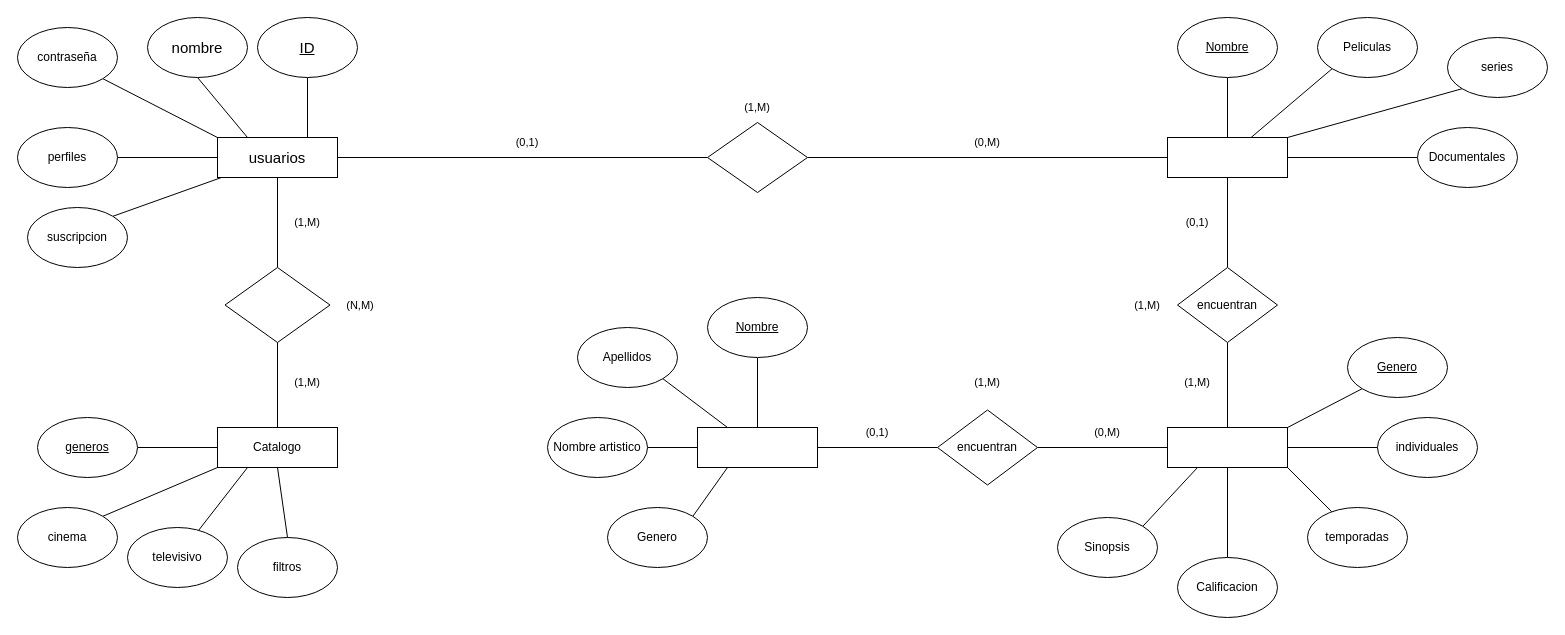
Some shapes in this 1565 by 635 pixel diagram are drawn without their labels. Each missing label, with the centre of its shape:
Acceso: (277,304)
Actores: (757,447)
Crean: (757,157)
Listas: (1227,157)
Peliculas y series: (1227,447)
